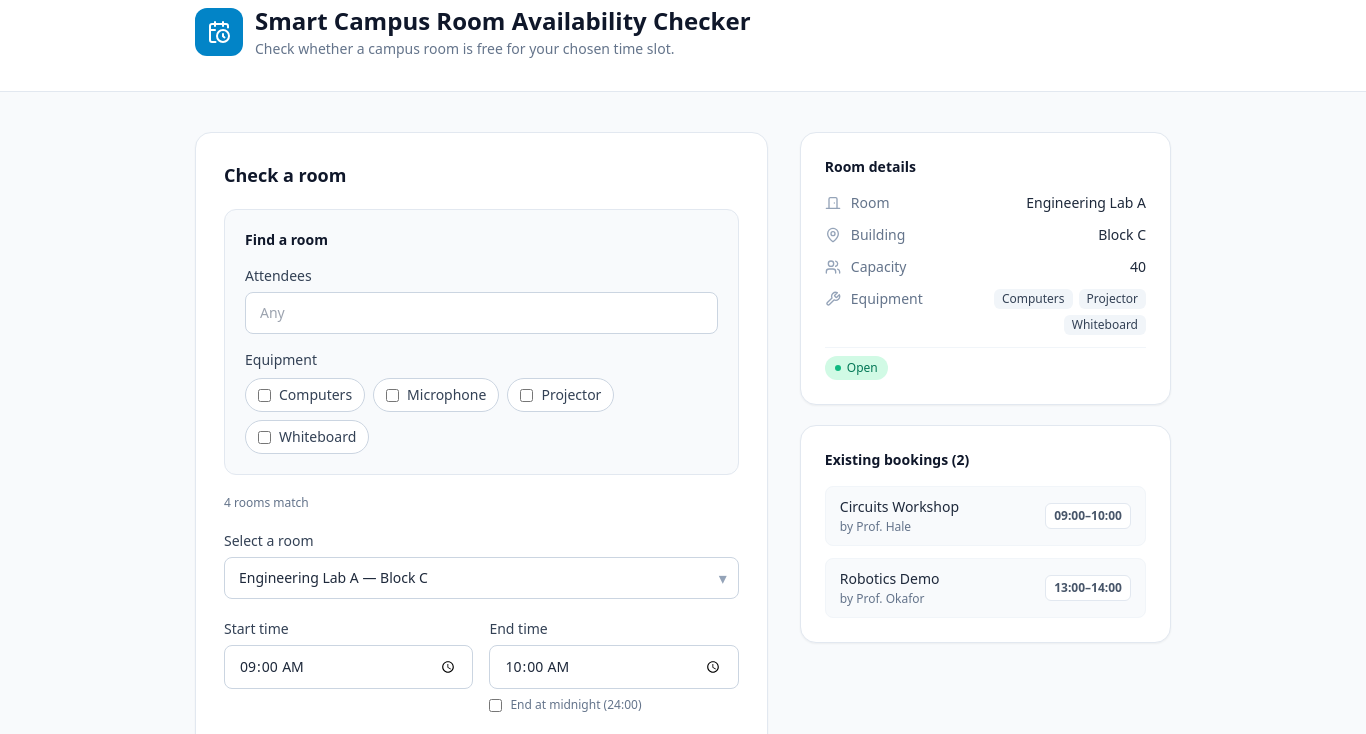
Test case: App integration (UI behavior) › R-02: clearing End time does not silently become midnight
Clear the time field labelled "End time" at x=614, y=667, box [489,645,739,689]
(page scrolled)
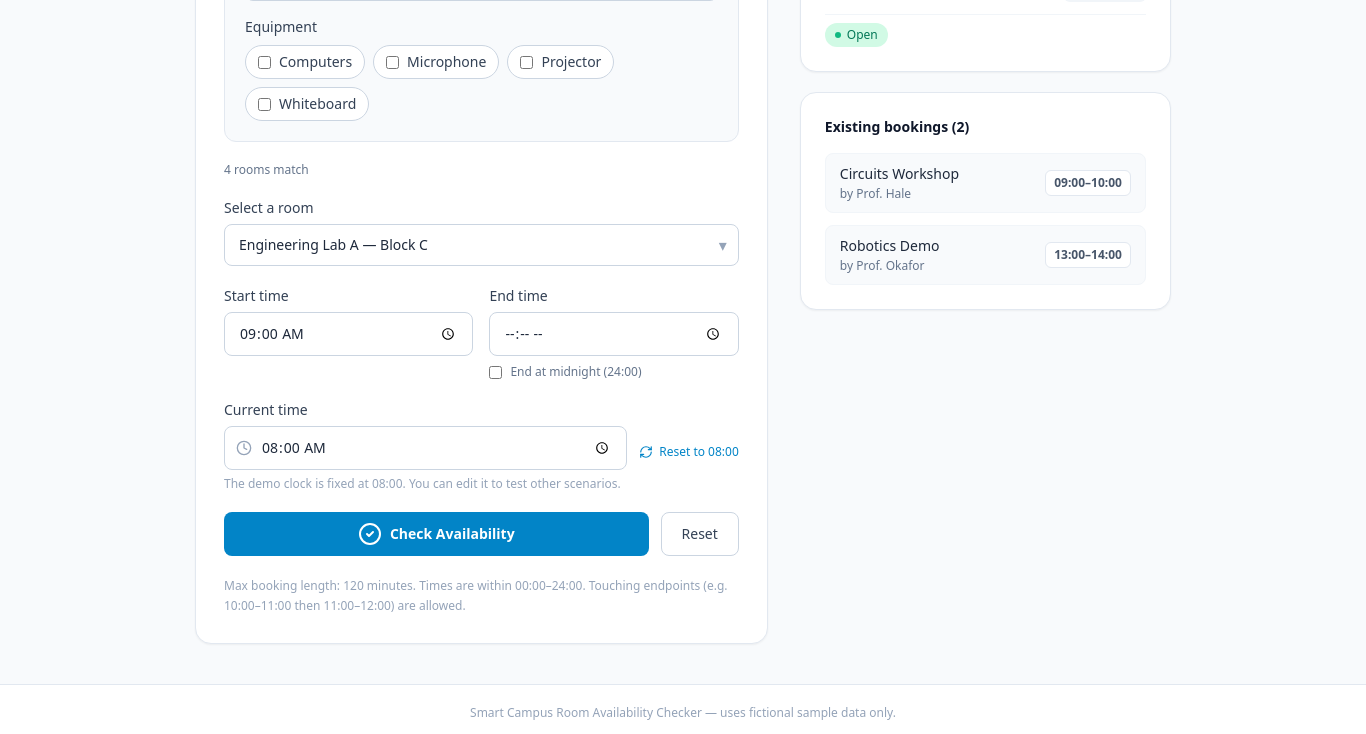
Check: the checkbox labelled "End at midnight (24:00)" is not checked, box [489,366,502,378]
Click the button "Check Availability" at x=436, y=534, box [224,512,648,556]
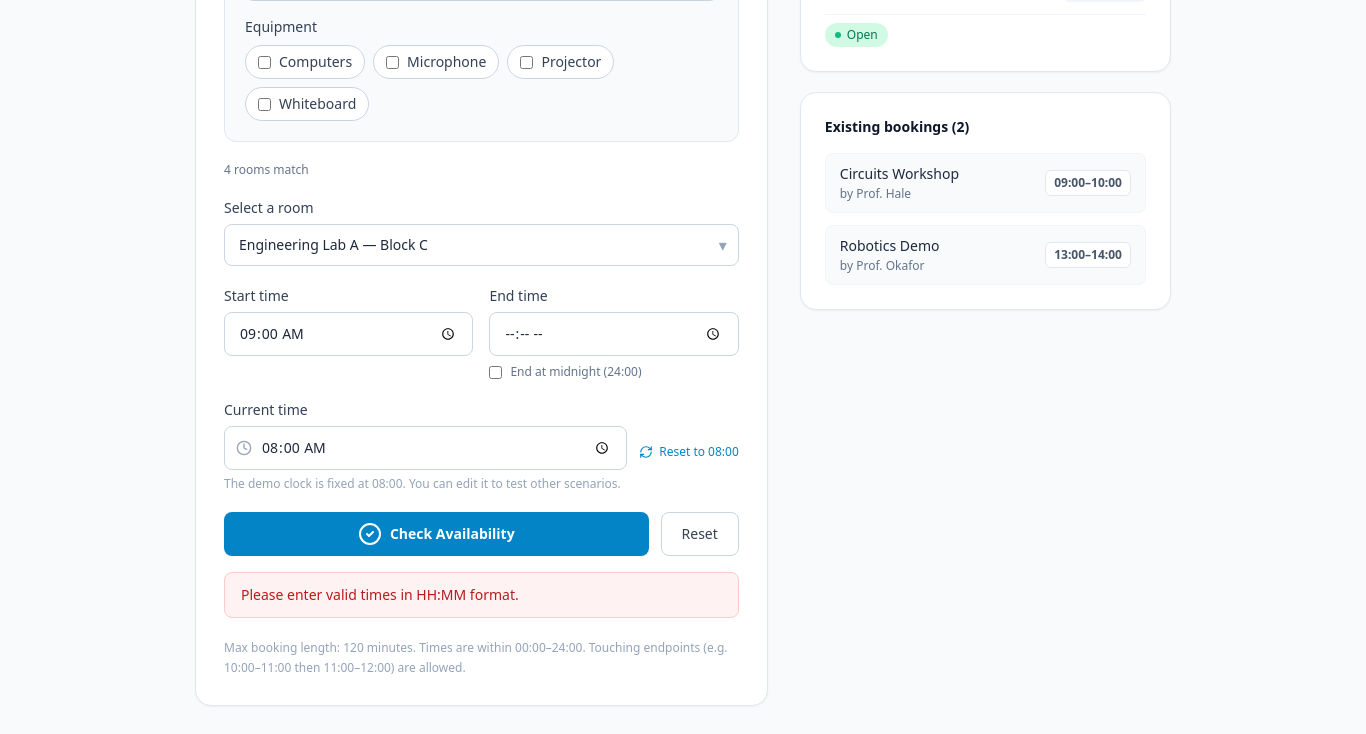
Check: the text "Please enter valid times in HH:MM format." is shown, box [224,572,739,618]
